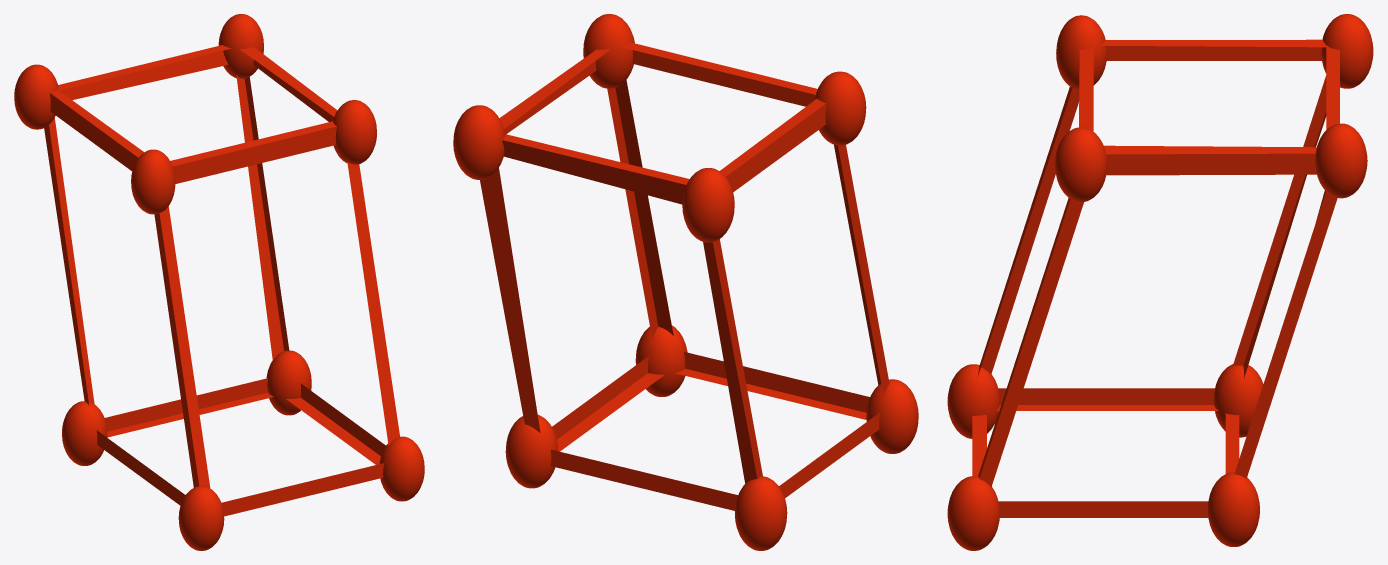
File: Monoclinique.fbx
3 renders of one model, left to right at view 1: azimuth 30°, elevation 25°; view 2: azimuth 150°, elevation 25°; view 3: azimuth 270°, elevation 25°, orthographic. The views are drawn at different scales.
Visible parts, largest first — view 1: Sphere.002; view 2: Sphere.002; view 3: Sphere.002.
Boxes of the visible parts, x1=… form: Sphere.002: x1=14, y1=14, x2=424, y2=550; Sphere.002: x1=453, y1=14, x2=918, y2=550; Sphere.002: x1=947, y1=14, x2=1373, y2=550.
Size of the model in its own units: 241 by 351 by 319.
